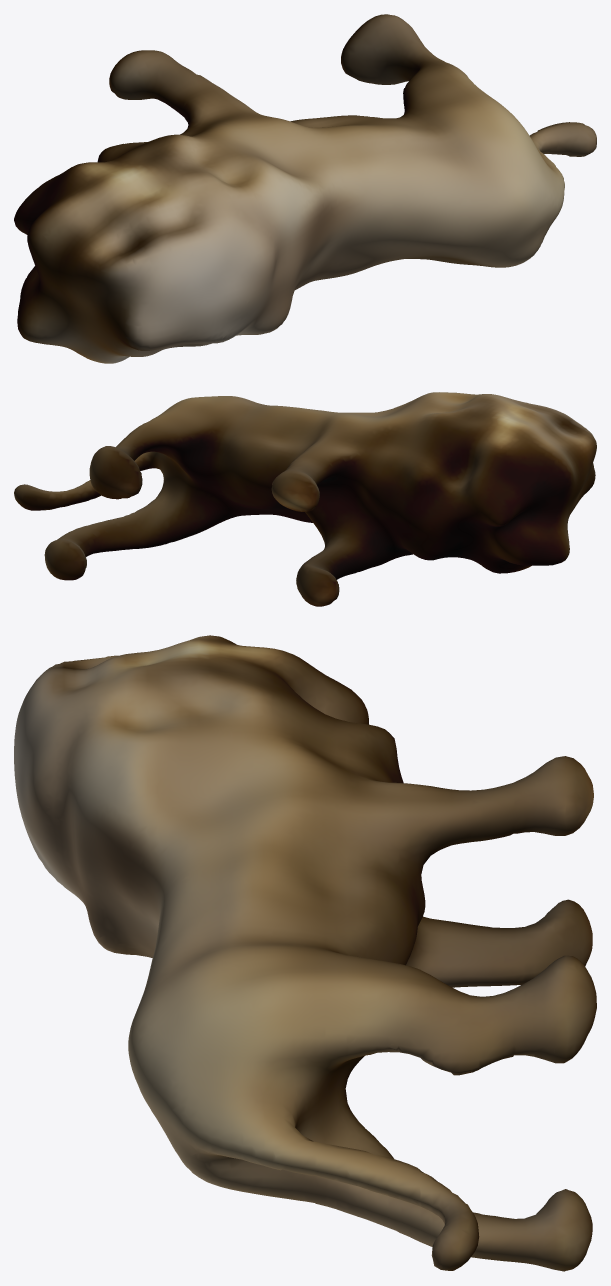
The model's file is lion.glb.
3 renders of one model, top to bottom at view 1: azimuth 30°, elevation 25°; view 2: azimuth 150°, elevation 25°; view 3: azimuth 270°, elevation 25°, orthographic. The views are drawn at different scales.
Size of the model in its own units: 0.9986 by 0.3347 by 0.5574.
